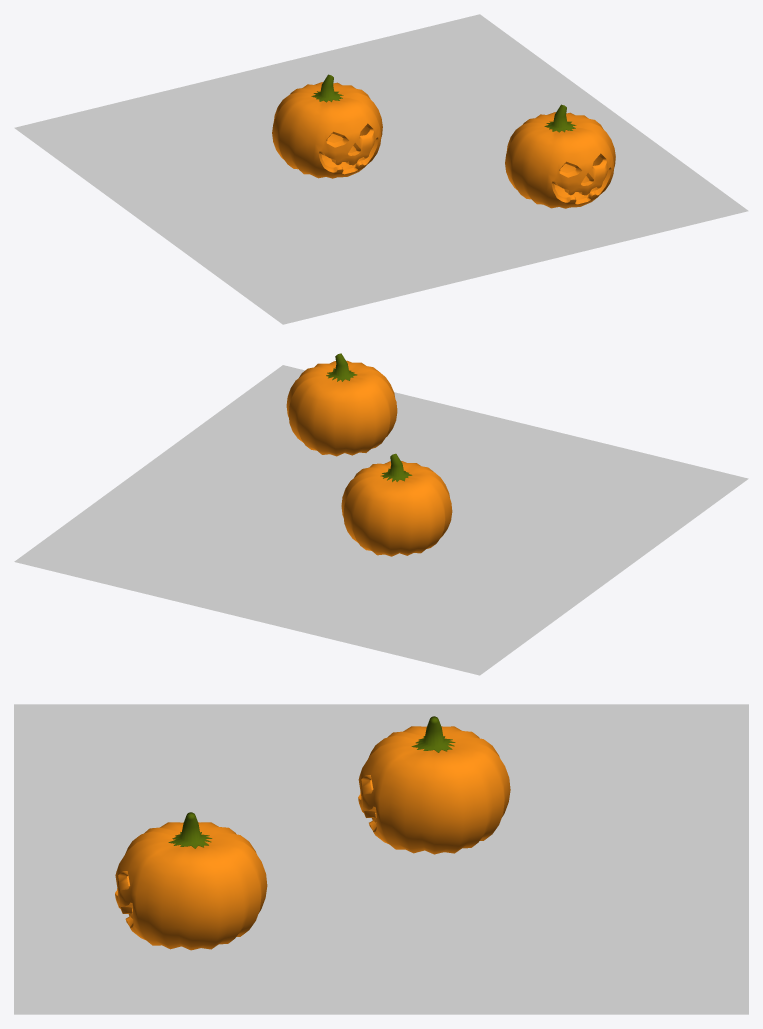
The model's file is pumpkin.glb.
The picture shows the model from 3 angles, top to bottom: view 1: azimuth 30°, elevation 25°; view 2: azimuth 150°, elevation 25°; view 3: azimuth 270°, elevation 25°; orthographic projection. The views are drawn at different scales.
Visible parts, largest first — view 1: Plane, pump, pump.001; view 2: Plane, pump, pump.001; view 3: Plane, pump.001, pump.
Part boxes in pixels (x1,y1,x2,y2): Plane: [14, 14, 748, 324]; pump: [505, 104, 615, 208]; pump.001: [272, 74, 382, 178]; Plane: [14, 365, 748, 675]; pump: [286, 353, 397, 456]; pump.001: [341, 453, 452, 556]; Plane: [14, 704, 748, 1014]; pump.001: [358, 716, 510, 854]; pump: [115, 812, 267, 950].
Bounding box in the file's own units: 2 × 0.3648 × 2.
